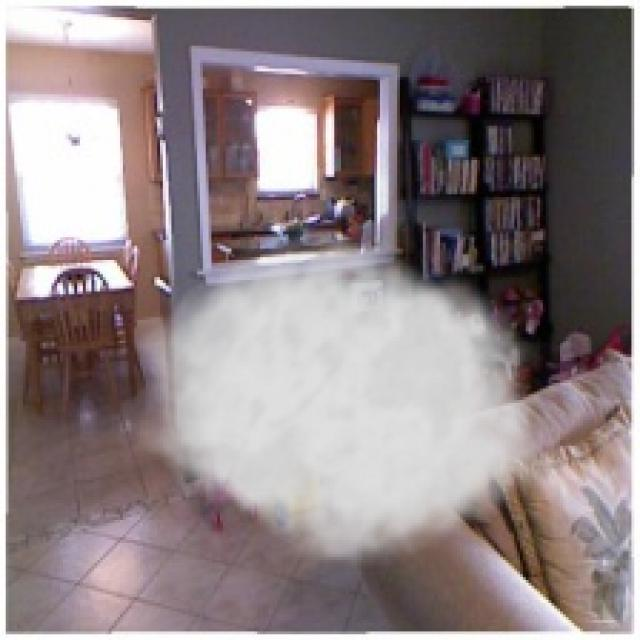smoke: (134, 220, 557, 574)
